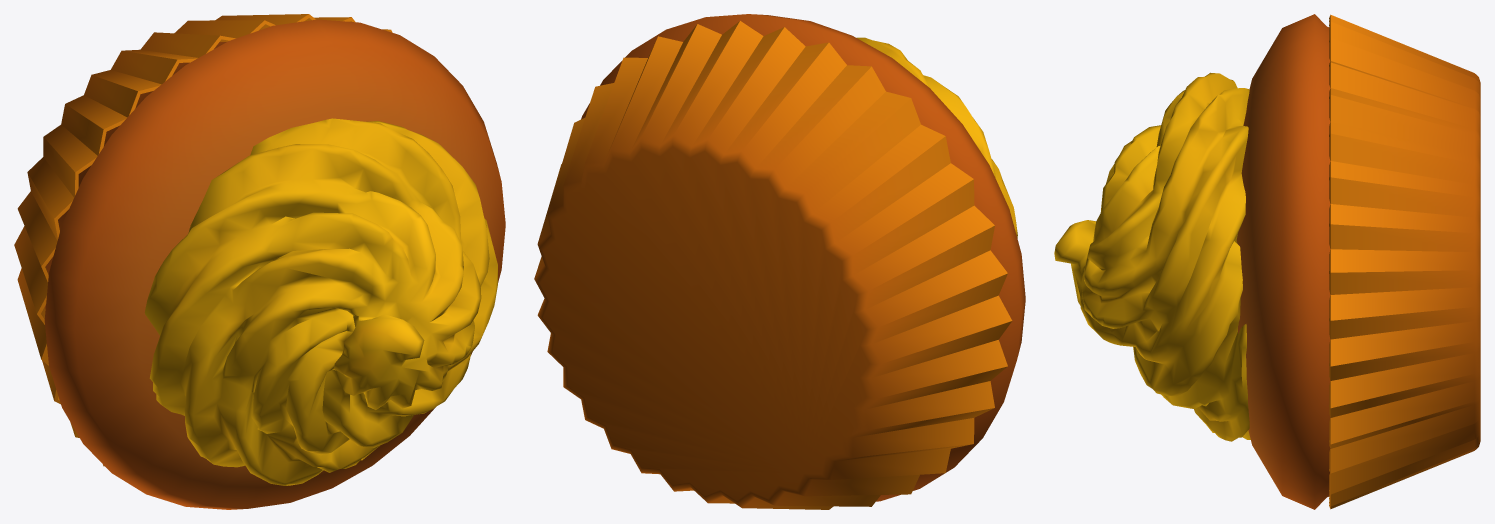
File: Cupcake Tray Sort - Cake 4.fbx
3 views of the same model, side by side, from view 1: azimuth 30°, elevation 25°; view 2: azimuth 150°, elevation 25°; view 3: azimuth 270°, elevation 25° (orthographic). The views are drawn at different scales.
Visible parts, largest first — view 1: 4. cake yellow; view 2: 4. cake yellow; view 3: 4. cake yellow.
Boxes of the visible parts, <box> form: 4. cake yellow: <box>14,14,505,509</box>; 4. cake yellow: <box>534,14,1025,509</box>; 4. cake yellow: <box>1054,14,1480,509</box>.
Bounding box in the file's own units: 0.1375 × 0.1375 × 0.1181.
